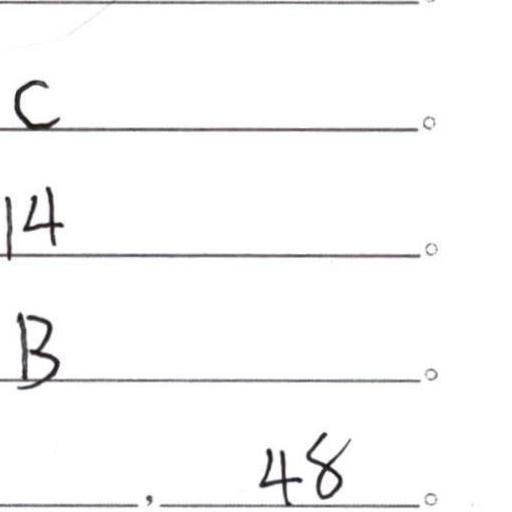ans: (257, 427, 353, 506), (0, 183, 64, 257), (12, 307, 61, 392), (11, 78, 62, 131)
